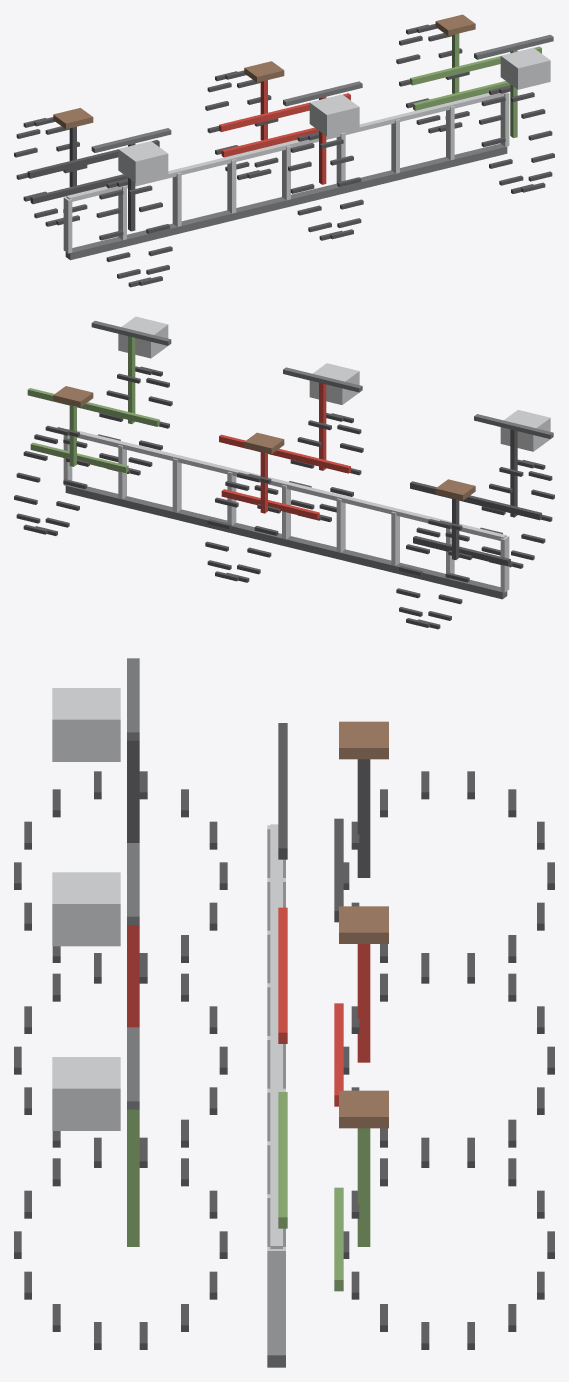
File: Cycle_Stand.fbx
3 renders of one model, top to bottom at view 1: azimuth 30°, elevation 25°; view 2: azimuth 150°, elevation 25°; view 3: azimuth 270°, elevation 25°, orthographic. The views are drawn at different scales.
Parts seen in each view (by area): view 1: Cycle_Stand; view 2: Cycle_Stand; view 3: Cycle_Stand.
Part boxes in pixels (<box>): Cycle_Stand: <box>14,14,554,287</box>; Cycle_Stand: <box>14,316,554,629</box>; Cycle_Stand: <box>14,658,554,1367</box>.
Bounding box in the file's own units: 3.75 × 0.98 × 1.73.
